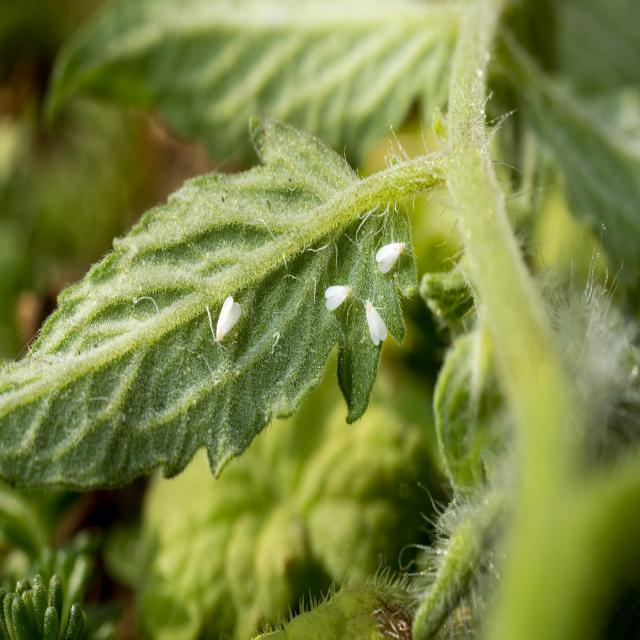Whitefly: (319, 234, 414, 348), (202, 287, 254, 352)
